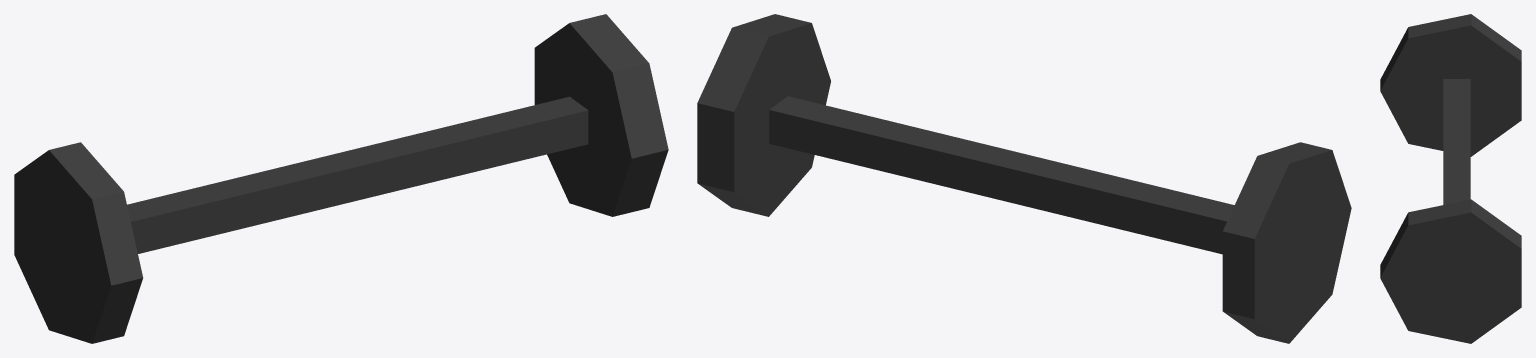
File: wheel.gltf
The picture shows the model from 3 angles, left to right: view 1: azimuth 30°, elevation 25°; view 2: azimuth 150°, elevation 25°; view 3: azimuth 270°, elevation 25°; orthographic projection. The views are drawn at different scales.
Visible parts, largest first — view 1: w_back; view 2: w_back; view 3: w_back.
Part boxes in pixels (x1,y1,x2,y2): w_back: [14, 14, 668, 343]; w_back: [697, 14, 1351, 343]; w_back: [1380, 14, 1521, 343].
Size of the model in its own units: 0.6448 by 0.1993 by 0.1943.
Materials: 1 (1 with a texture image).
